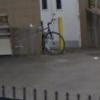Bicycle: (40, 13, 65, 59)
